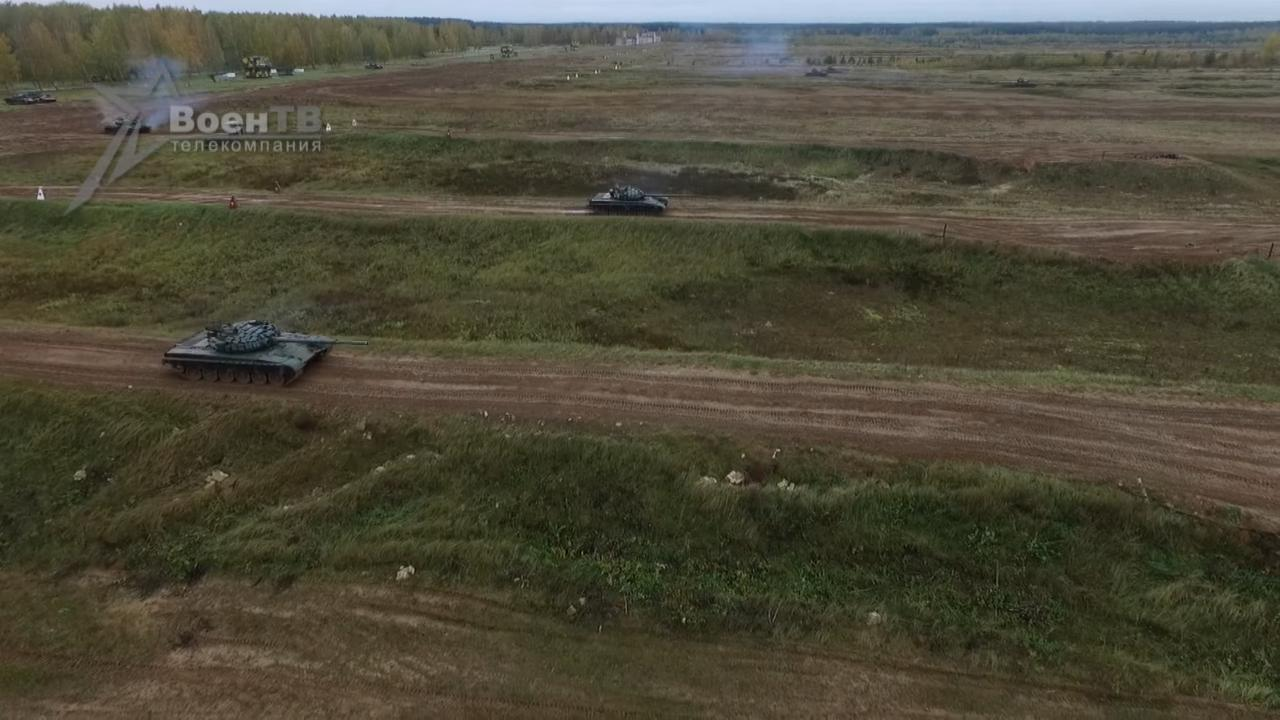tank: (165, 319, 369, 388), (590, 184, 695, 214), (105, 118, 153, 135)
